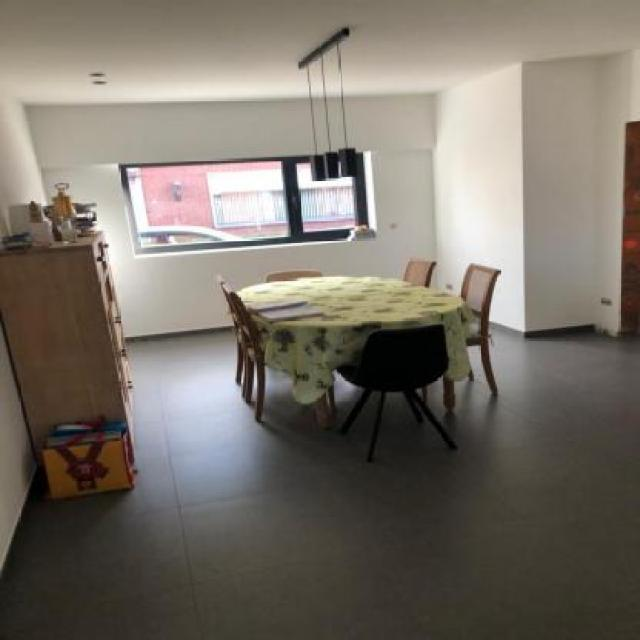Floor: (0, 327, 639, 639), (471, 316, 480, 330), (416, 388, 422, 399)
